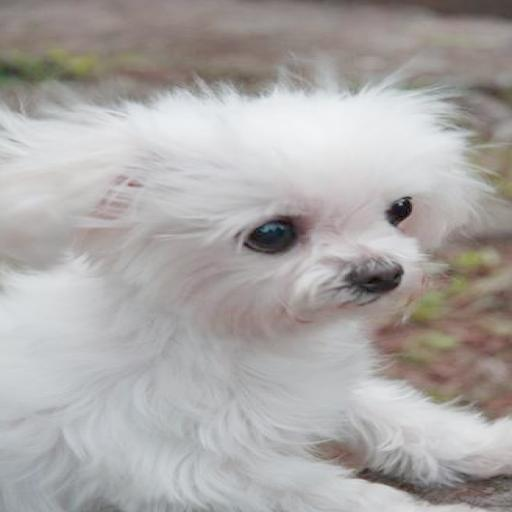dog_face: (16, 90, 473, 337)
